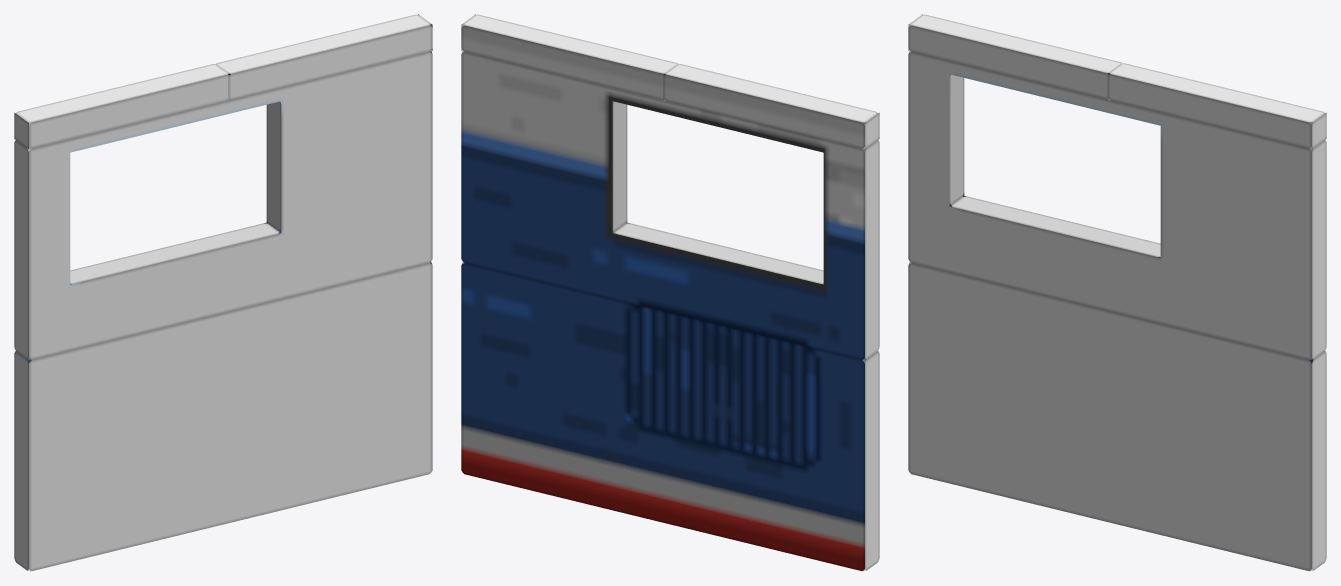
The model's file is df4d_right_board_e.obj.
3 views of the same model, side by side, from view 1: azimuth 30°, elevation 25°; view 2: azimuth 150°, elevation 25°; view 3: azimuth 330°, elevation 25° (orthographic).
Visible parts, largest first — view 1: df4d_right_broad_e; view 2: df4d_right_broad_e; view 3: df4d_right_broad_e.
Part boxes in pixels (x1,y1,x2,y2): df4d_right_broad_e: [14, 14, 432, 571]; df4d_right_broad_e: [461, 14, 879, 571]; df4d_right_broad_e: [908, 14, 1326, 571].
Size of the model in its own units: 2 by 2.12 by 0.1258.
